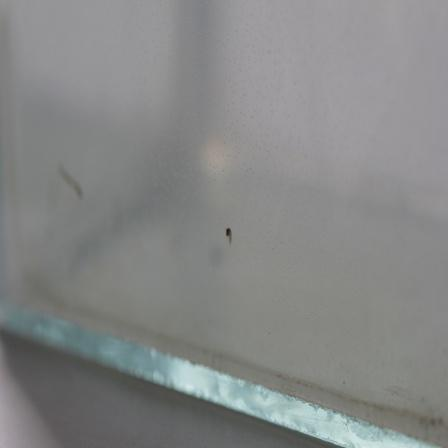Jentik-Nyamuk: (218, 220, 237, 248)
